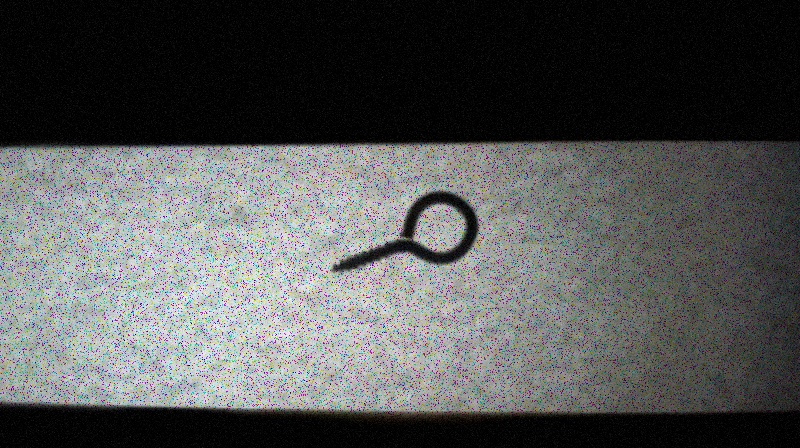O001: (326, 187, 483, 279)
